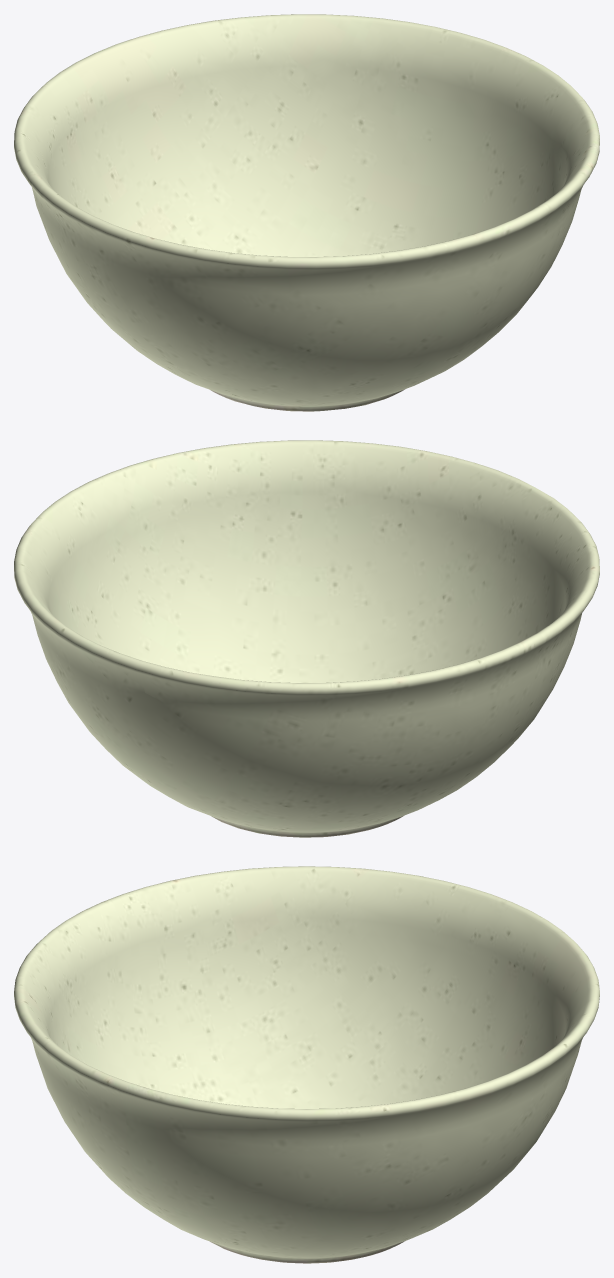
Rendered from MOSSMAL Bol, motif à pois-vert clair, 17 cm.glb.
3 views of the same model, one above another, from view 1: azimuth 30°, elevation 25°; view 2: azimuth 150°, elevation 25°; view 3: azimuth 270°, elevation 25° (orthographic).
Visible parts, largest first — view 1: 90582777; view 2: 90582777; view 3: 90582777.
Part boxes in pixels (x1,y1,x2,y2): 90582777: [14, 14, 599, 411]; 90582777: [14, 440, 599, 837]; 90582777: [14, 866, 599, 1263].
Bounding box in the file's own units: 0.1679 × 0.0715 × 0.1679.
2 materials, 2 textured.
